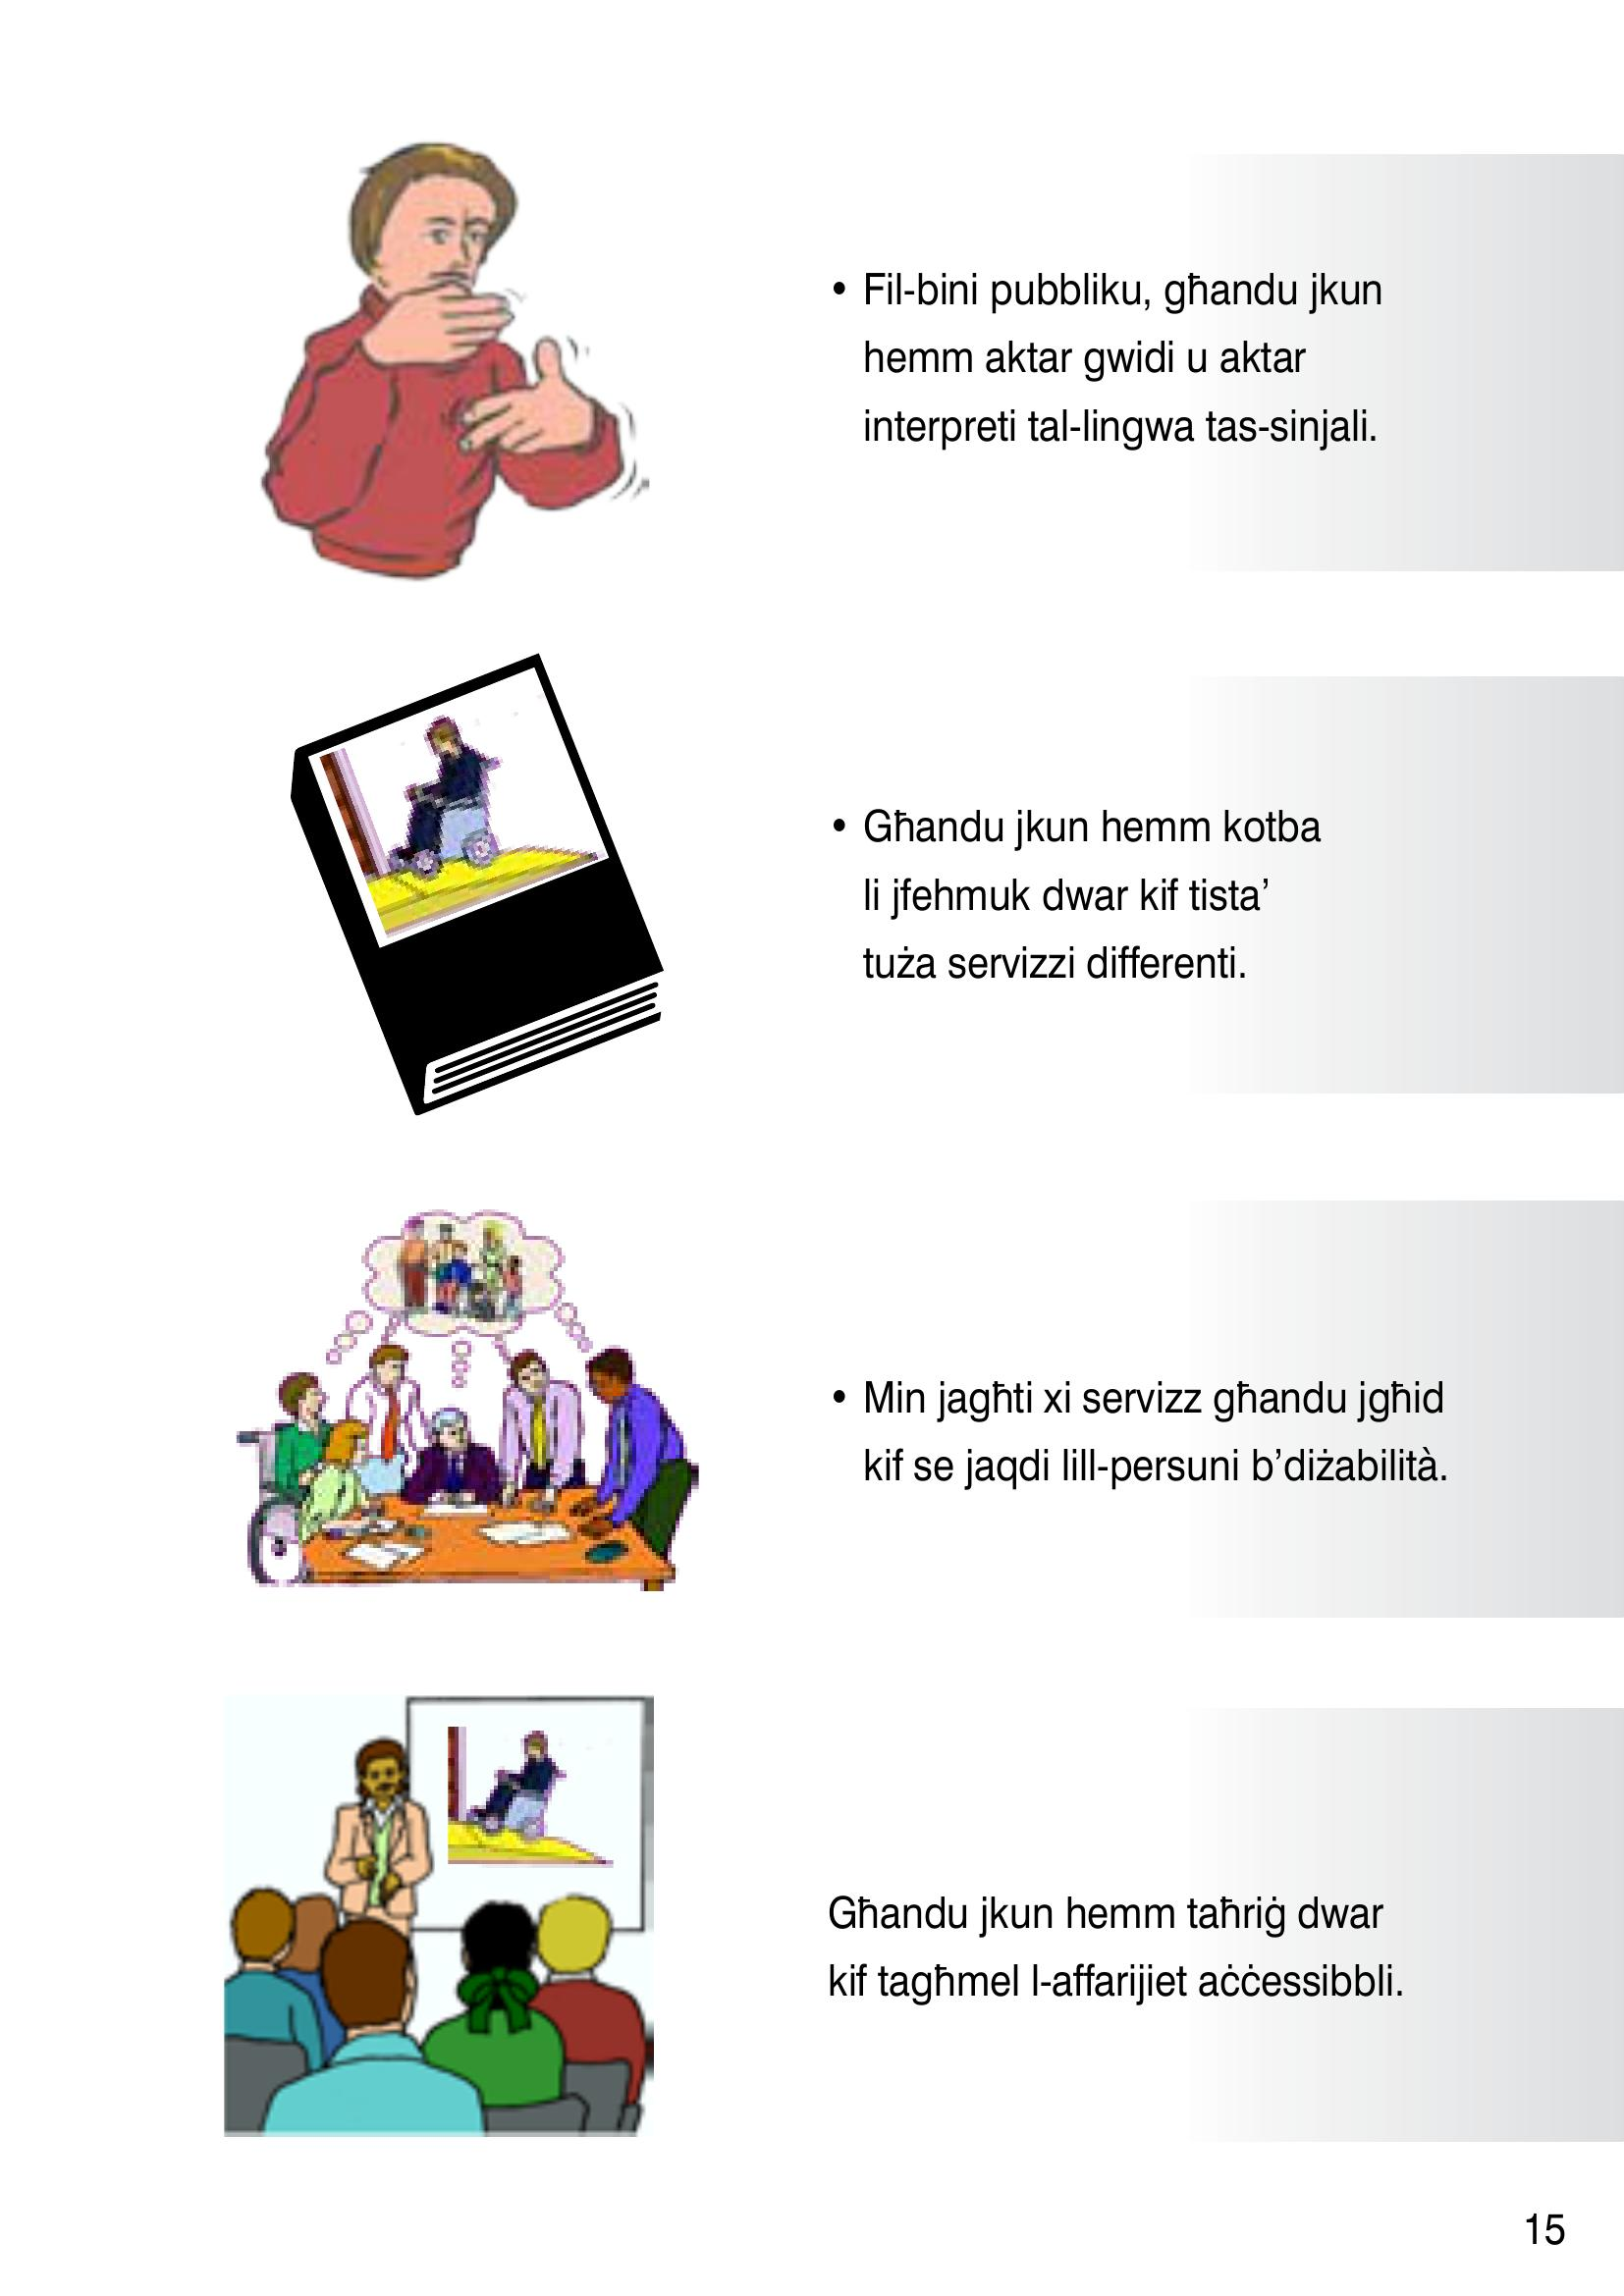text: (796, 246, 1475, 2052)
